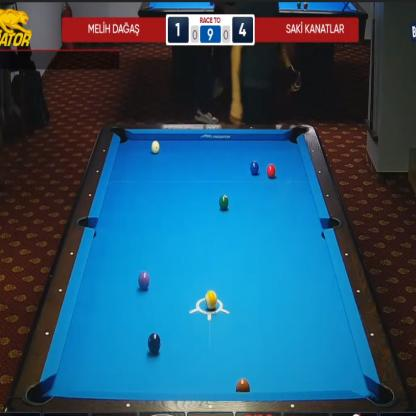Ball: (148, 332, 162, 353), (205, 289, 217, 310), (138, 271, 150, 290), (236, 378, 250, 392), (218, 194, 229, 210), (250, 160, 259, 176), (266, 164, 276, 178), (151, 140, 160, 154)
